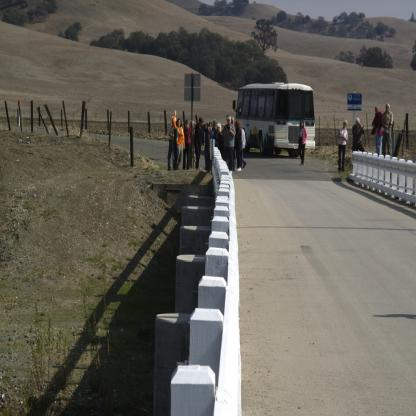Bus: (232, 80, 315, 159)
